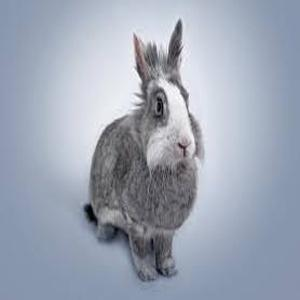rabbit: (83, 23, 206, 283)
